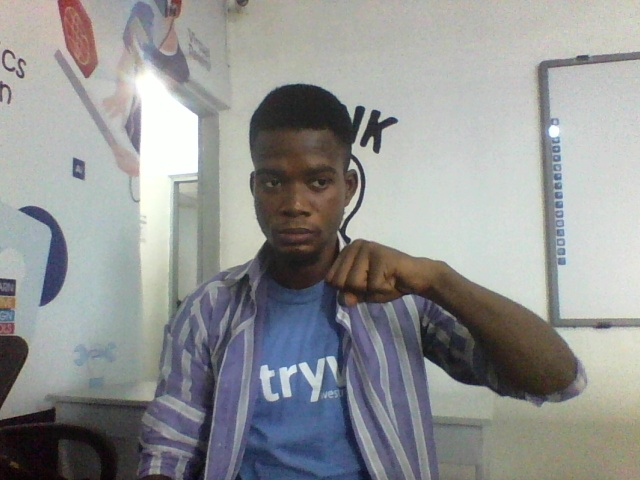yes: (323, 237, 457, 323)
